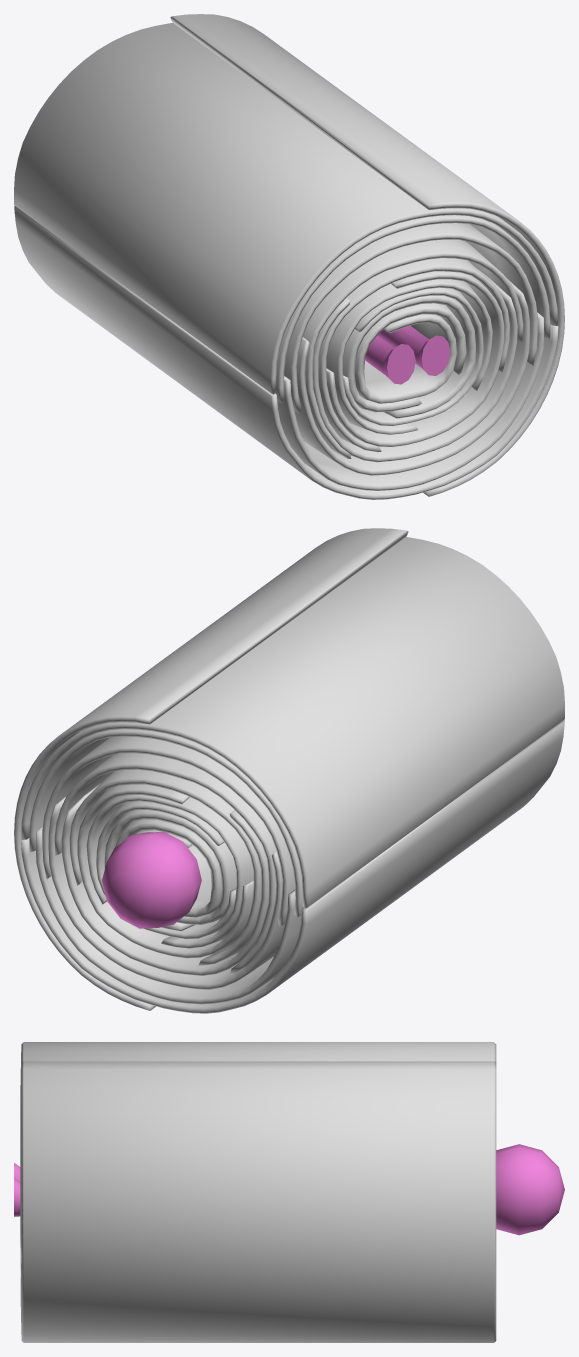
Rendered from huton15.FBX.
3 renders of one model, top to bottom at view 1: azimuth 30°, elevation 25°; view 2: azimuth 150°, elevation 25°; view 3: azimuth 270°, elevation 25°, orthographic. The views are drawn at different scales.
Visible parts, largest first — view 1: huton1; view 2: huton1; view 3: huton1.
Part boxes in pixels (bbox=[...]): huton1: bbox=[14, 14, 564, 499]; huton1: bbox=[14, 528, 564, 1013]; huton1: bbox=[14, 1042, 564, 1342].
Bounding box in the file's own units: 102 × 96.91 × 181.
